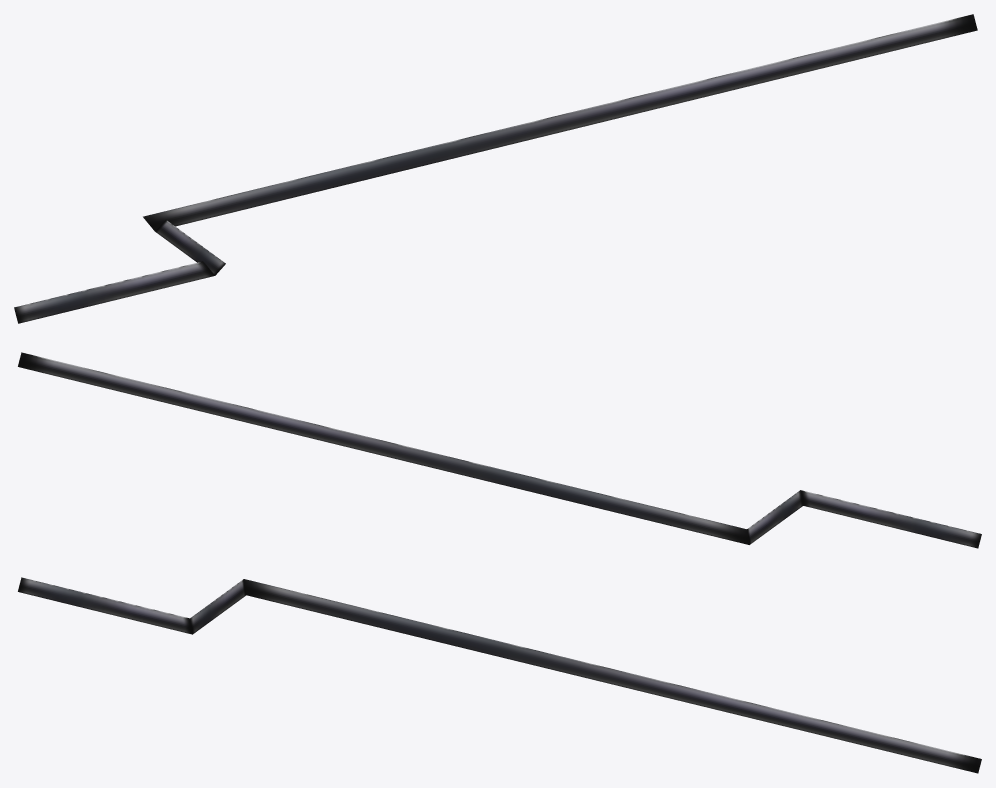
3 views of the same model, one above another, from view 1: azimuth 30°, elevation 25°; view 2: azimuth 150°, elevation 25°; view 3: azimuth 330°, elevation 25° (orthographic). The views are drawn at different scales.
Parts seen in each view (by area): view 1: Cylinder09; view 2: Cylinder09; view 3: Cylinder09.
Part boxes in pixels (left/top/right/bottom): Cylinder09: left=14, top=14, right=977, bottom=323; Cylinder09: left=18, top=352, right=981, bottom=548; Cylinder09: left=18, top=577, right=981, bottom=773.
Size of the model in its own units: 3538 by 43.88 by 416.
1 material, 1 textured.
